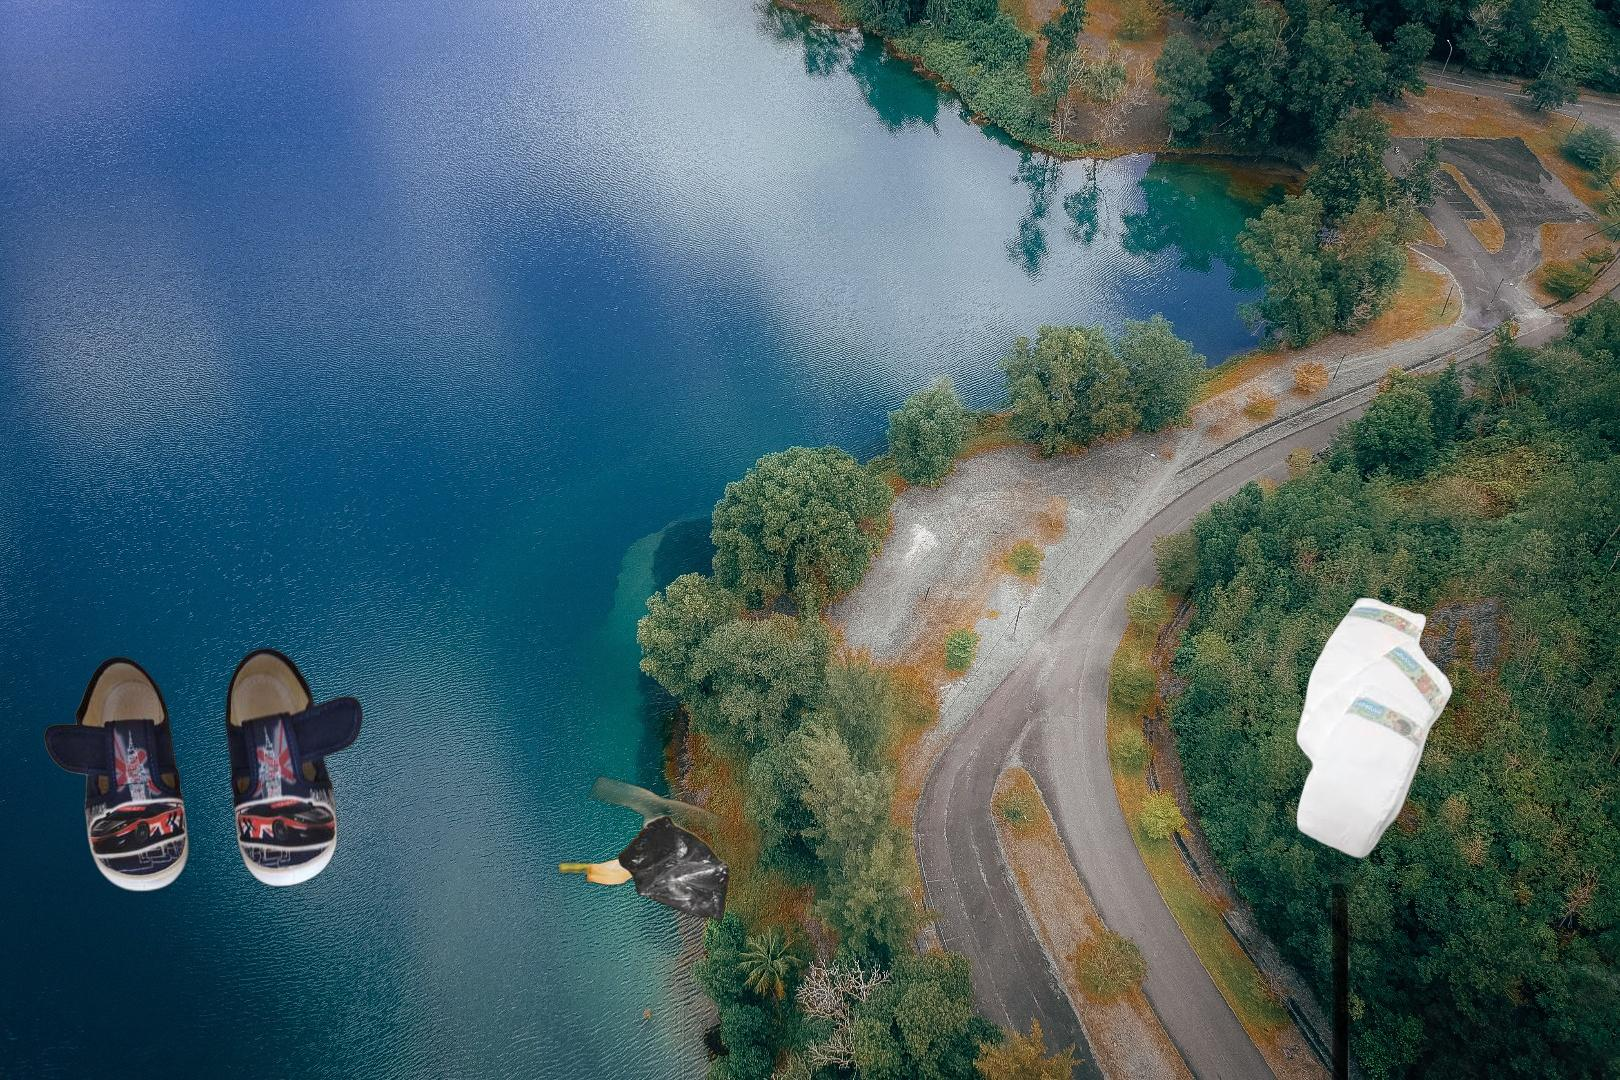penholder: (923, 811, 1620, 1080)
plastic-bag: (556, 765, 783, 938)
shoes: (41, 644, 366, 896)
trash: (1293, 594, 1456, 861)
